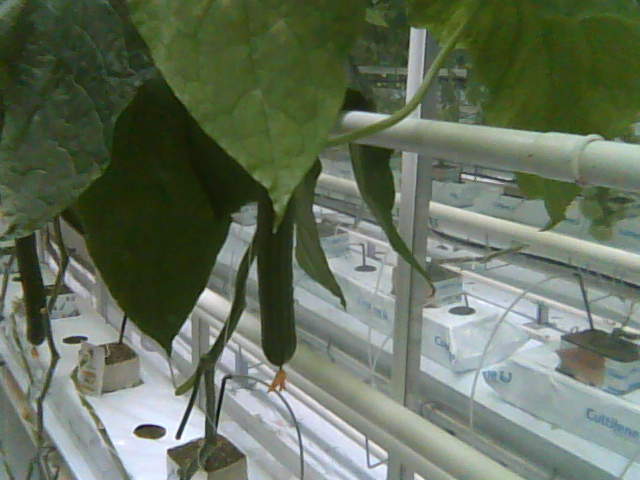concombre: (254, 181, 300, 393)
